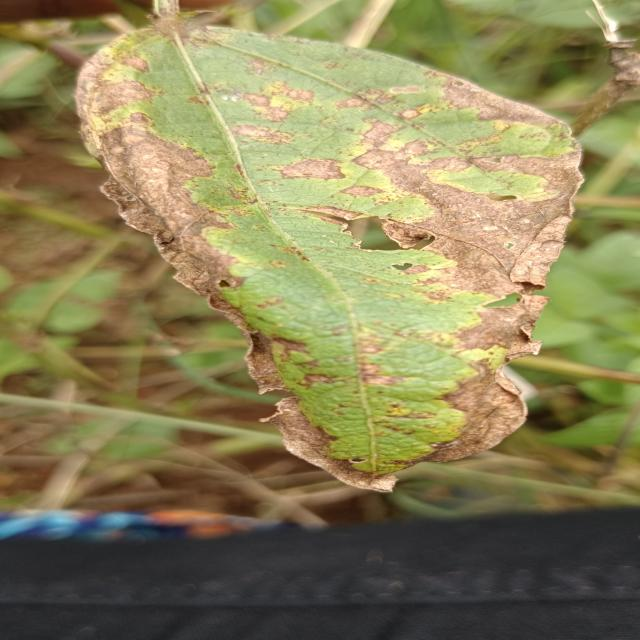Black gram_leaf spot: (64, 17, 596, 496)
